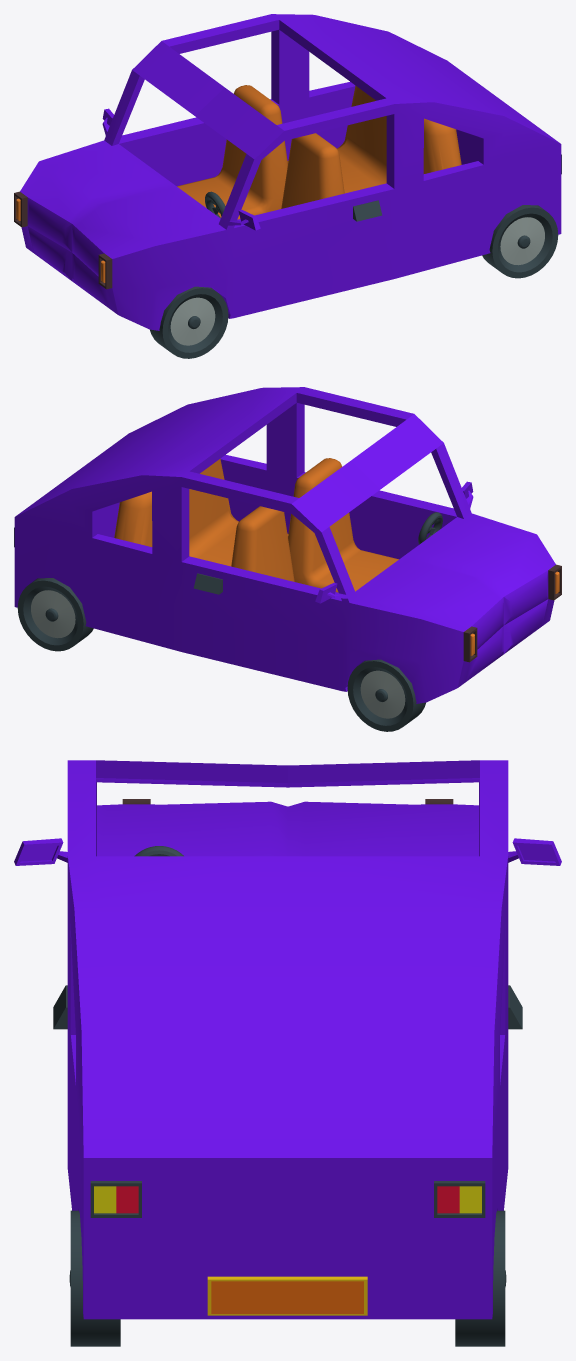
File: Car7.fbx
The picture shows the model from 3 angles, top to bottom: view 1: azimuth 30°, elevation 25°; view 2: azimuth 150°, elevation 25°; view 3: azimuth 270°, elevation 25°; orthographic projection. The views are drawn at different scales.
Parts seen in each view (by area): view 1: Cube, Cylinder, Cylinder.001; view 2: Cube, Cylinder, Cylinder.001, Torus; view 3: Cube, Cube.002, Cylinder.001, Cube.001.
Part boxes in pixels (left/top/right/bottom): Cube: left=14, top=14, right=561, bottom=330; Cylinder: left=150, top=286, right=228, bottom=358; Cylinder.001: left=482, top=205, right=558, bottom=278; Cube: left=14, top=387, right=561, bottom=703; Cylinder: left=347, top=659, right=425, bottom=731; Cylinder.001: left=17, top=578, right=93, bottom=651; Torus: left=418, top=512, right=442, bottom=544; Cube: left=14, top=760, right=561, bottom=1319; Cube.002: left=207, top=1276, right=367, bottom=1315; Cylinder.001: left=69, top=1210, right=506, bottom=1346; Cube.001: left=90, top=1181, right=485, bottom=1217.
Size of the model in its own units: 623 by 274 by 368.
